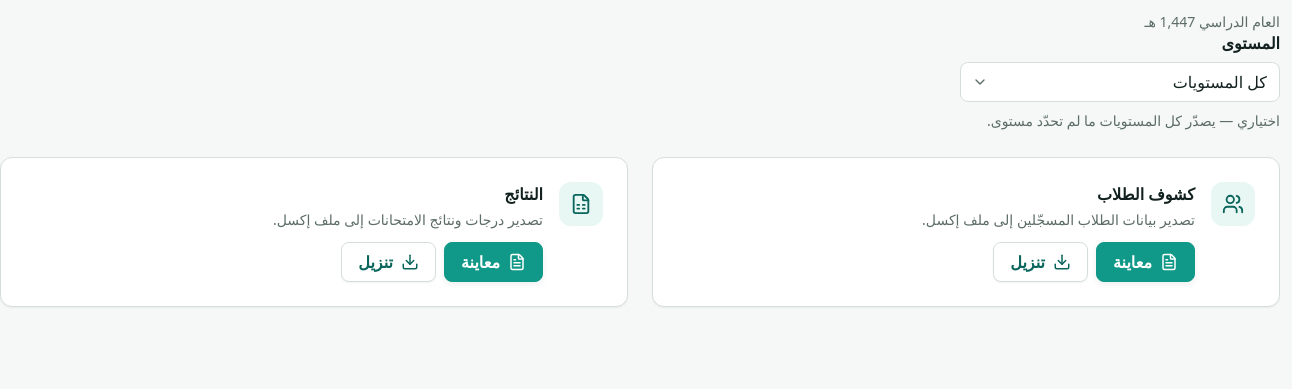
Test: ExportsPage › says so plainly when the chosen level would export nothing
The width and height of the screenshot is (1292, 389).
Check: the heading "كشوف الطلاب" is shown, box x1=1097 y1=183 x2=1195 y2=205
What coordinates should you click on to do the following:
click the button "معاينة" below "كشوف الطلاب"
I would click on:
 (1146, 262)
Its box is x1=1096 y1=242 x2=1195 y2=282.
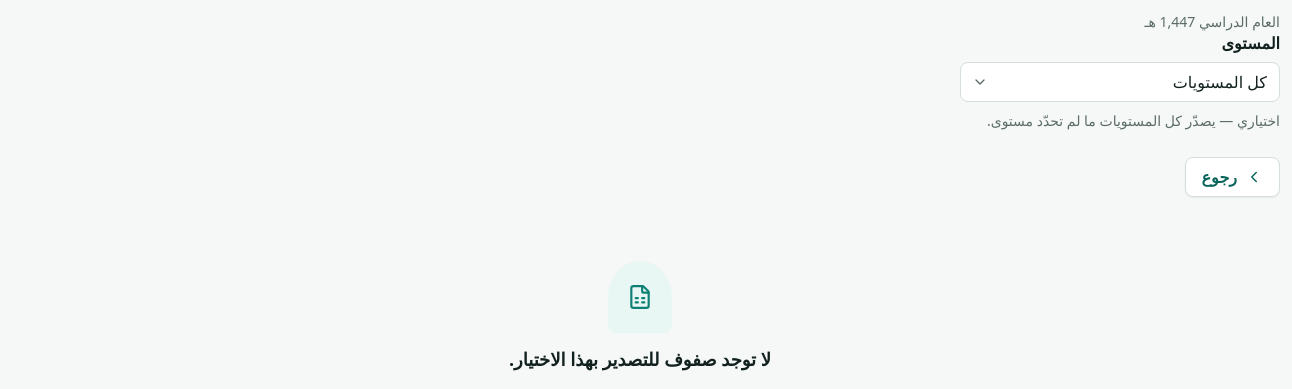
Check: the heading "لا توجد صفوف للتصدير بهذا الاختيار." is shown, box x1=509 y1=345 x2=771 y2=373
